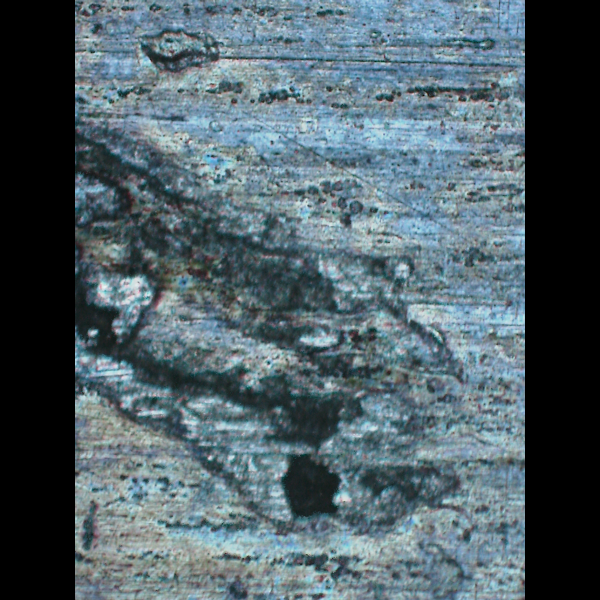d: (75, 126, 472, 541), (132, 26, 229, 77)
